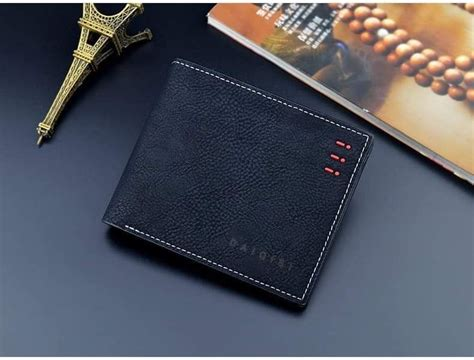gamuza: (102, 58, 375, 308)
